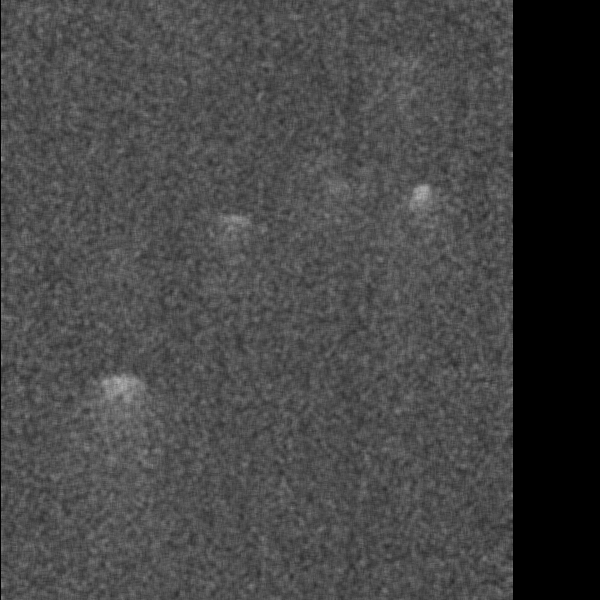spark: (28, 456, 77, 498), (66, 551, 86, 587)
